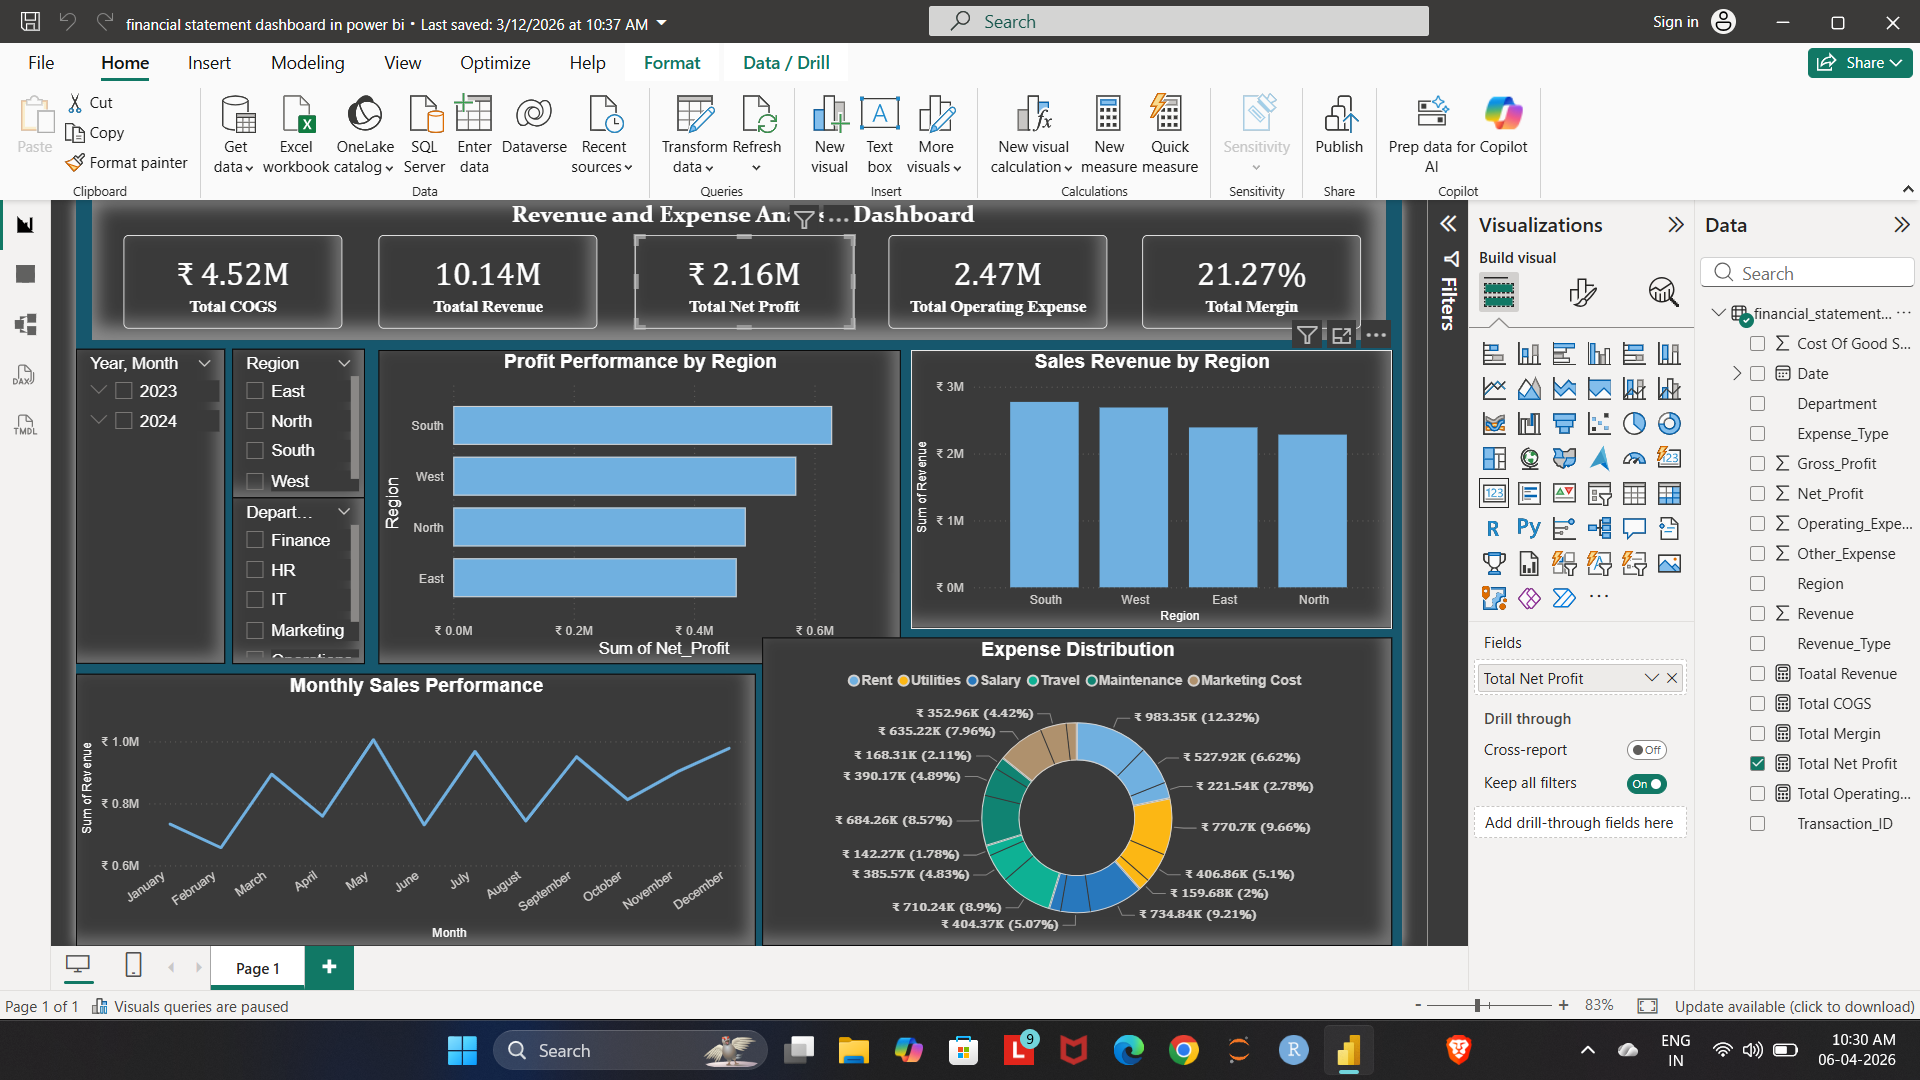

The page's visual inventory and layout, read from the dashboard file:
{"tool":"powerbi","page":{"name":"Page 1","canvas":[1280,720],"ordinal":0},"visuals":[{"type":"textbox","box":[15.7,0,1248.7,135.1],"z":0},{"type":"textbox","title":"Revenue and Expense Analysis Dashboard","box":[258,0,771.6,31.8],"z":1000},{"type":"card","fields":{"Values":["financial_statement_analysis_da.Toatal Revenue"]},"box":[292.2,34.1,211.5,90.4],"z":2000},{"type":"card","fields":{"Values":["financial_statement_analysis_da.Total COGS"]},"box":[45.9,34.1,211.5,90.4],"z":3000},{"type":"card","fields":{"Values":["financial_statement_analysis_da.Total Operating Expense"]},"box":[784.7,34.1,211.5,90.4],"z":4000},{"type":"card","fields":{"Values":["financial_statement_analysis_da.Total Net Profit"]},"box":[539.8,34.1,211.5,90.4],"z":5000},{"type":"card","fields":{"Values":["financial_statement_analysis_da.Total Mergin"]},"box":[1029.6,34.1,211.5,90.4],"z":6000},{"type":"clusteredColumnChart","title":"Sales Revenue by Region","fields":{"Y":["Sum(financial_statement_analysis_da.Revenue)"],"Category":["financial_statement_analysis_da.Region"]},"box":[805.9,144.8,464.5,269],"z":8000},{"type":"barChart","title":"Profit Performance by Region","fields":{"Category":["financial_statement_analysis_da.Region"],"Y":["Sum(financial_statement_analysis_da.Net_Profit)"]},"box":[292,144.8,504.3,302.8],"z":9000},{"type":"slicer","fields":{"Values":["financial_statement_analysis_da.Date.Variation.Date Hierarchy.Year","financial_statement_analysis_da.Date.Variation.Date Hierarchy.Month"]},"box":[0,144,144,304],"z":10000},{"type":"slicer","fields":{"Values":["financial_statement_analysis_da.Region"]},"box":[150.4,143.6,128,144],"z":12000},{"type":"slicer","fields":{"Values":["financial_statement_analysis_da.Department"]},"box":[150.8,287.1,127.9,160.5],"z":13000},{"type":"lineChart","title":"Monthly Sales Performance","fields":{"Category":["financial_statement_analysis_da.Date.Variation.Date Hierarchy.Month"],"Y":["Sum(financial_statement_analysis_da.Revenue)"]},"box":[0,457.2,656.3,263],"z":14000},{"type":"donutChart","title":"Expense Distribution","fields":{"Y":["Sum(financial_statement_analysis_da.Cost Of Good Sold)","Sum(financial_statement_analysis_da.Operating_Expense)","Sum(financial_statement_analysis_da.Other_Expense)"],"Category":["financial_statement_analysis_da.Expense_Type"]},"box":[662.3,422.3,608,298],"z":14500}]}

Visuals, with their boxes in screenshot pixels (x1, y1, x2, y2):
textbox: [67,0,1849,183]
"Revenue and Expense Analysis Dashboard" textbox: [413,0,1514,35]
card - financial_statement_analysis_da.Toatal Revenue: [462,39,764,168]
card - financial_statement_analysis_da.Total COGS: [110,39,412,168]
card - financial_statement_analysis_da.Total Operating Expense: [1165,39,1466,168]
card - financial_statement_analysis_da.Total Net Profit: [815,39,1117,168]
card - financial_statement_analysis_da.Total Mergin: [1514,39,1816,168]
"Sales Revenue by Region" clusteredColumnChart: [1195,197,1858,580]
"Profit Performance by Region" barChart: [462,197,1181,629]
slicer - financial_statement_analysis_da.Date.Variation.Date Hierarchy.Year x financial_statement_analysis_da.Date.Variation.Date Hierarchy.Month: [45,195,250,629]
slicer - financial_statement_analysis_da.Region: [260,195,442,400]
slicer - financial_statement_analysis_da.Department: [260,400,443,629]
"Monthly Sales Performance" lineChart: [45,642,981,1018]
"Expense Distribution" donutChart: [990,593,1857,1018]
